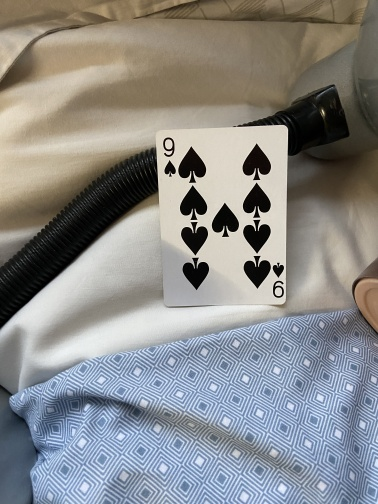nine: (154, 124, 288, 309)
